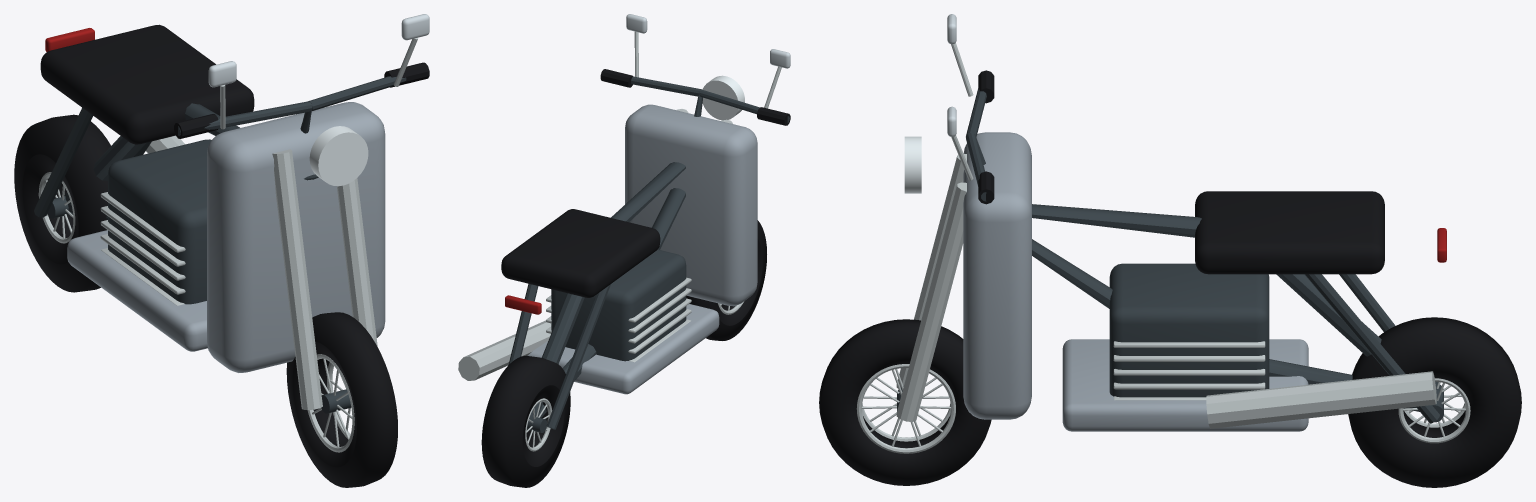
File: scooter_urbano_base.glb
3 views of the same model, side by side, from view 1: azimuth 30°, elevation 25°; view 2: azimuth 150°, elevation 25°; view 3: azimuth 270°, elevation 25° (orthographic). The views are drawn at different scales.
Visible parts, largest first — view 1: scooter_urbano_base; view 2: scooter_urbano_base; view 3: scooter_urbano_base.
Part boxes in pixels (bbox=[...]): scooter_urbano_base: bbox=[14, 14, 429, 487]; scooter_urbano_base: bbox=[458, 14, 790, 487]; scooter_urbano_base: bbox=[819, 14, 1521, 487].
Bounding box in the file's own units: 0.7428 × 1.21 × 1.85.
